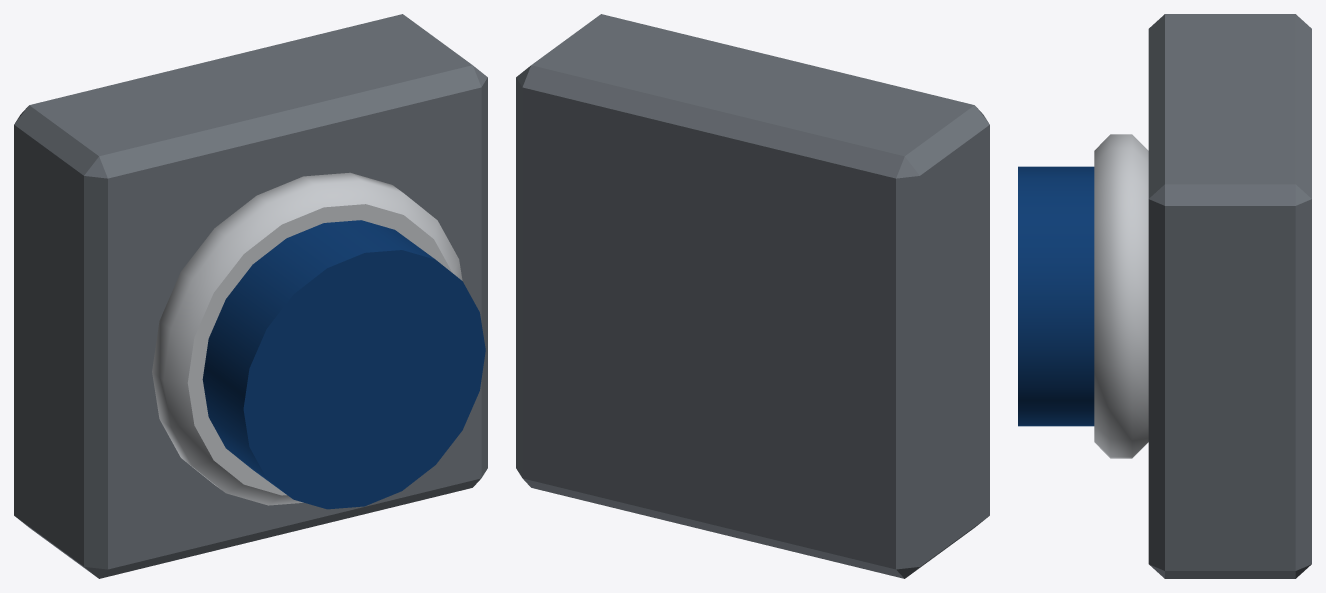
Rendered from push_button_blue.glb.
The picture shows the model from 3 angles, left to right: view 1: azimuth 30°, elevation 25°; view 2: azimuth 150°, elevation 25°; view 3: azimuth 270°, elevation 25°; orthographic projection. The views are drawn at different scales.
Visible parts, largest first — view 1: Button_Static, Button; view 2: Button_Static; view 3: Button_Static, Button.
Boxes of the visible parts, left/top/right/bottom form: Button_Static: left=14, top=14, right=487, bottom=578; Button: left=202, top=220, right=485, bottom=509; Button_Static: left=516, top=14, right=989, bottom=578; Button_Static: left=1094, top=14, right=1311, bottom=578; Button: left=1018, top=166, right=1094, bottom=426.
Size of the model in its own units: 0.08 by 0.08 by 0.054.
